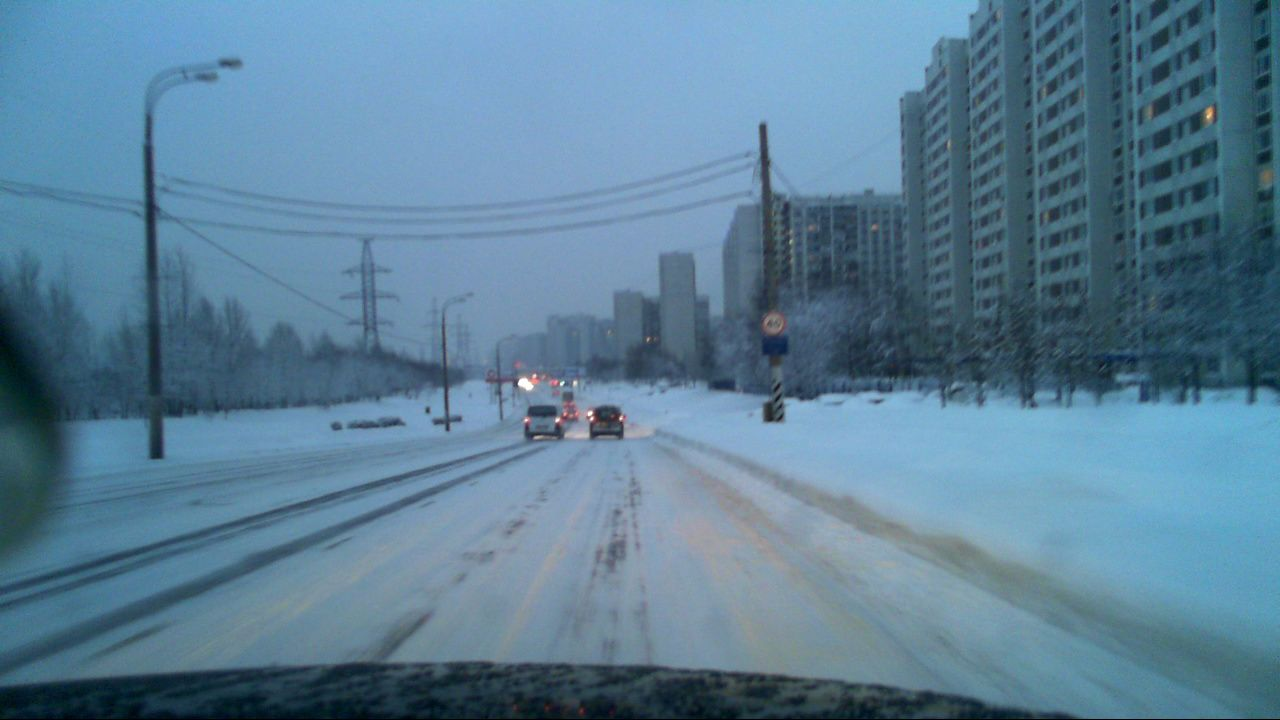speed_warning_40: (759, 312, 788, 337)
